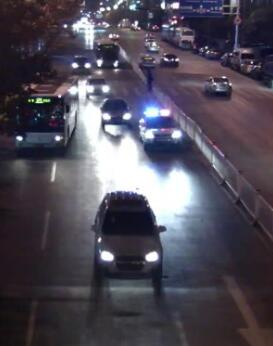bus: (11, 73, 80, 151), (92, 35, 120, 70), (167, 25, 195, 50), (159, 24, 170, 43)
car: (88, 190, 166, 290), (138, 109, 183, 151), (98, 95, 132, 129), (203, 74, 232, 97), (230, 47, 258, 70), (85, 72, 108, 98), (239, 56, 262, 77), (70, 53, 91, 74), (139, 51, 158, 69), (162, 51, 179, 66), (204, 45, 219, 60), (218, 50, 232, 66), (144, 40, 161, 53), (198, 45, 207, 56), (108, 32, 119, 40)
